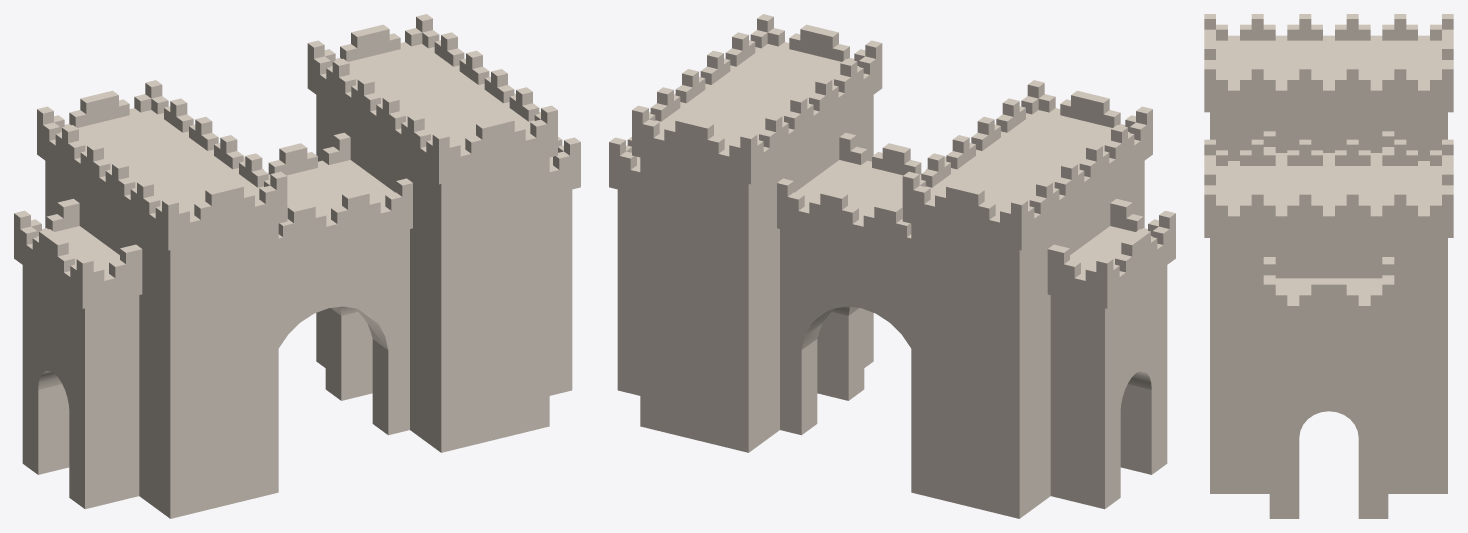
File: THE IRAQI MUSEUM GATE.glb
The picture shows the model from 3 angles, left to right: view 1: azimuth 30°, elevation 25°; view 2: azimuth 150°, elevation 25°; view 3: azimuth 270°, elevation 25°; orthographic projection. The views are drawn at different scales.
Visible parts, largest first — view 1: Geom3D_; view 2: Geom3D_; view 3: Geom3D_.
Boxes of the visible parts, x1=… form: Geom3D_: x1=14, y1=14, x2=580, y2=518; Geom3D_: x1=609, y1=14, x2=1175, y2=518; Geom3D_: x1=1204, y1=14, x2=1453, y2=518.
Bounding box in the file's own units: 4.6 × 2.8 × 2.1.
